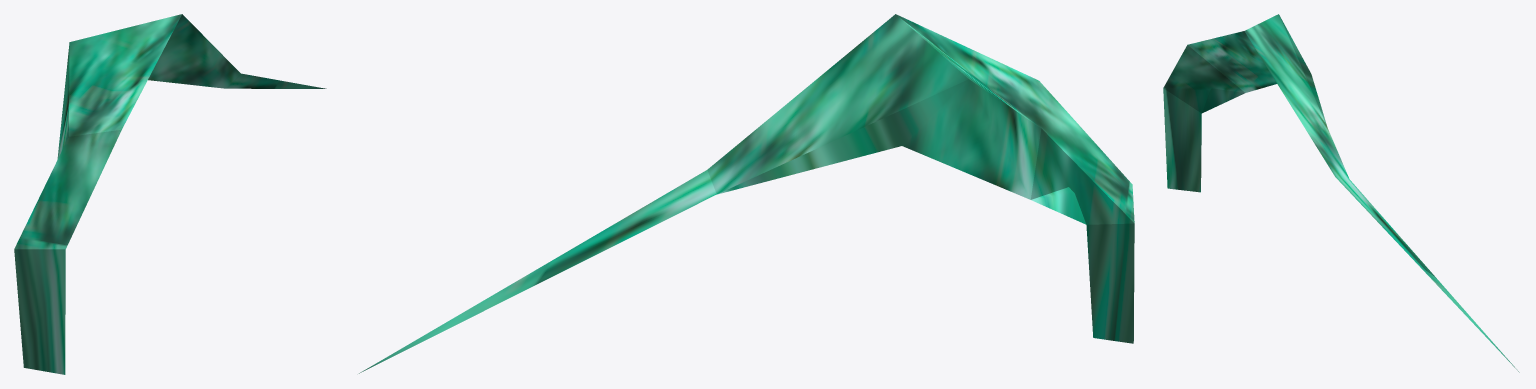
Rendered from H1_BluePlant_Branch_11.gltf.
3 renders of one model, left to right at view 1: azimuth 30°, elevation 25°; view 2: azimuth 150°, elevation 25°; view 3: azimuth 270°, elevation 25°, orthographic. The views are drawn at different scales.
Parts seen in each view (by area): view 1: H1_BluePlant_Branch_11; view 2: H1_BluePlant_Branch_11; view 3: H1_BluePlant_Branch_11.
Part boxes in pixels (left/top/right/bottom): H1_BluePlant_Branch_11: left=14, top=14, right=326, bottom=374; H1_BluePlant_Branch_11: left=359, top=14, right=1134, bottom=373; H1_BluePlant_Branch_11: left=1163, top=14, right=1519, bottom=372.
Size of the model in its own units: 6.15 by 3.22 by 4.73.
1 material, 1 textured.
